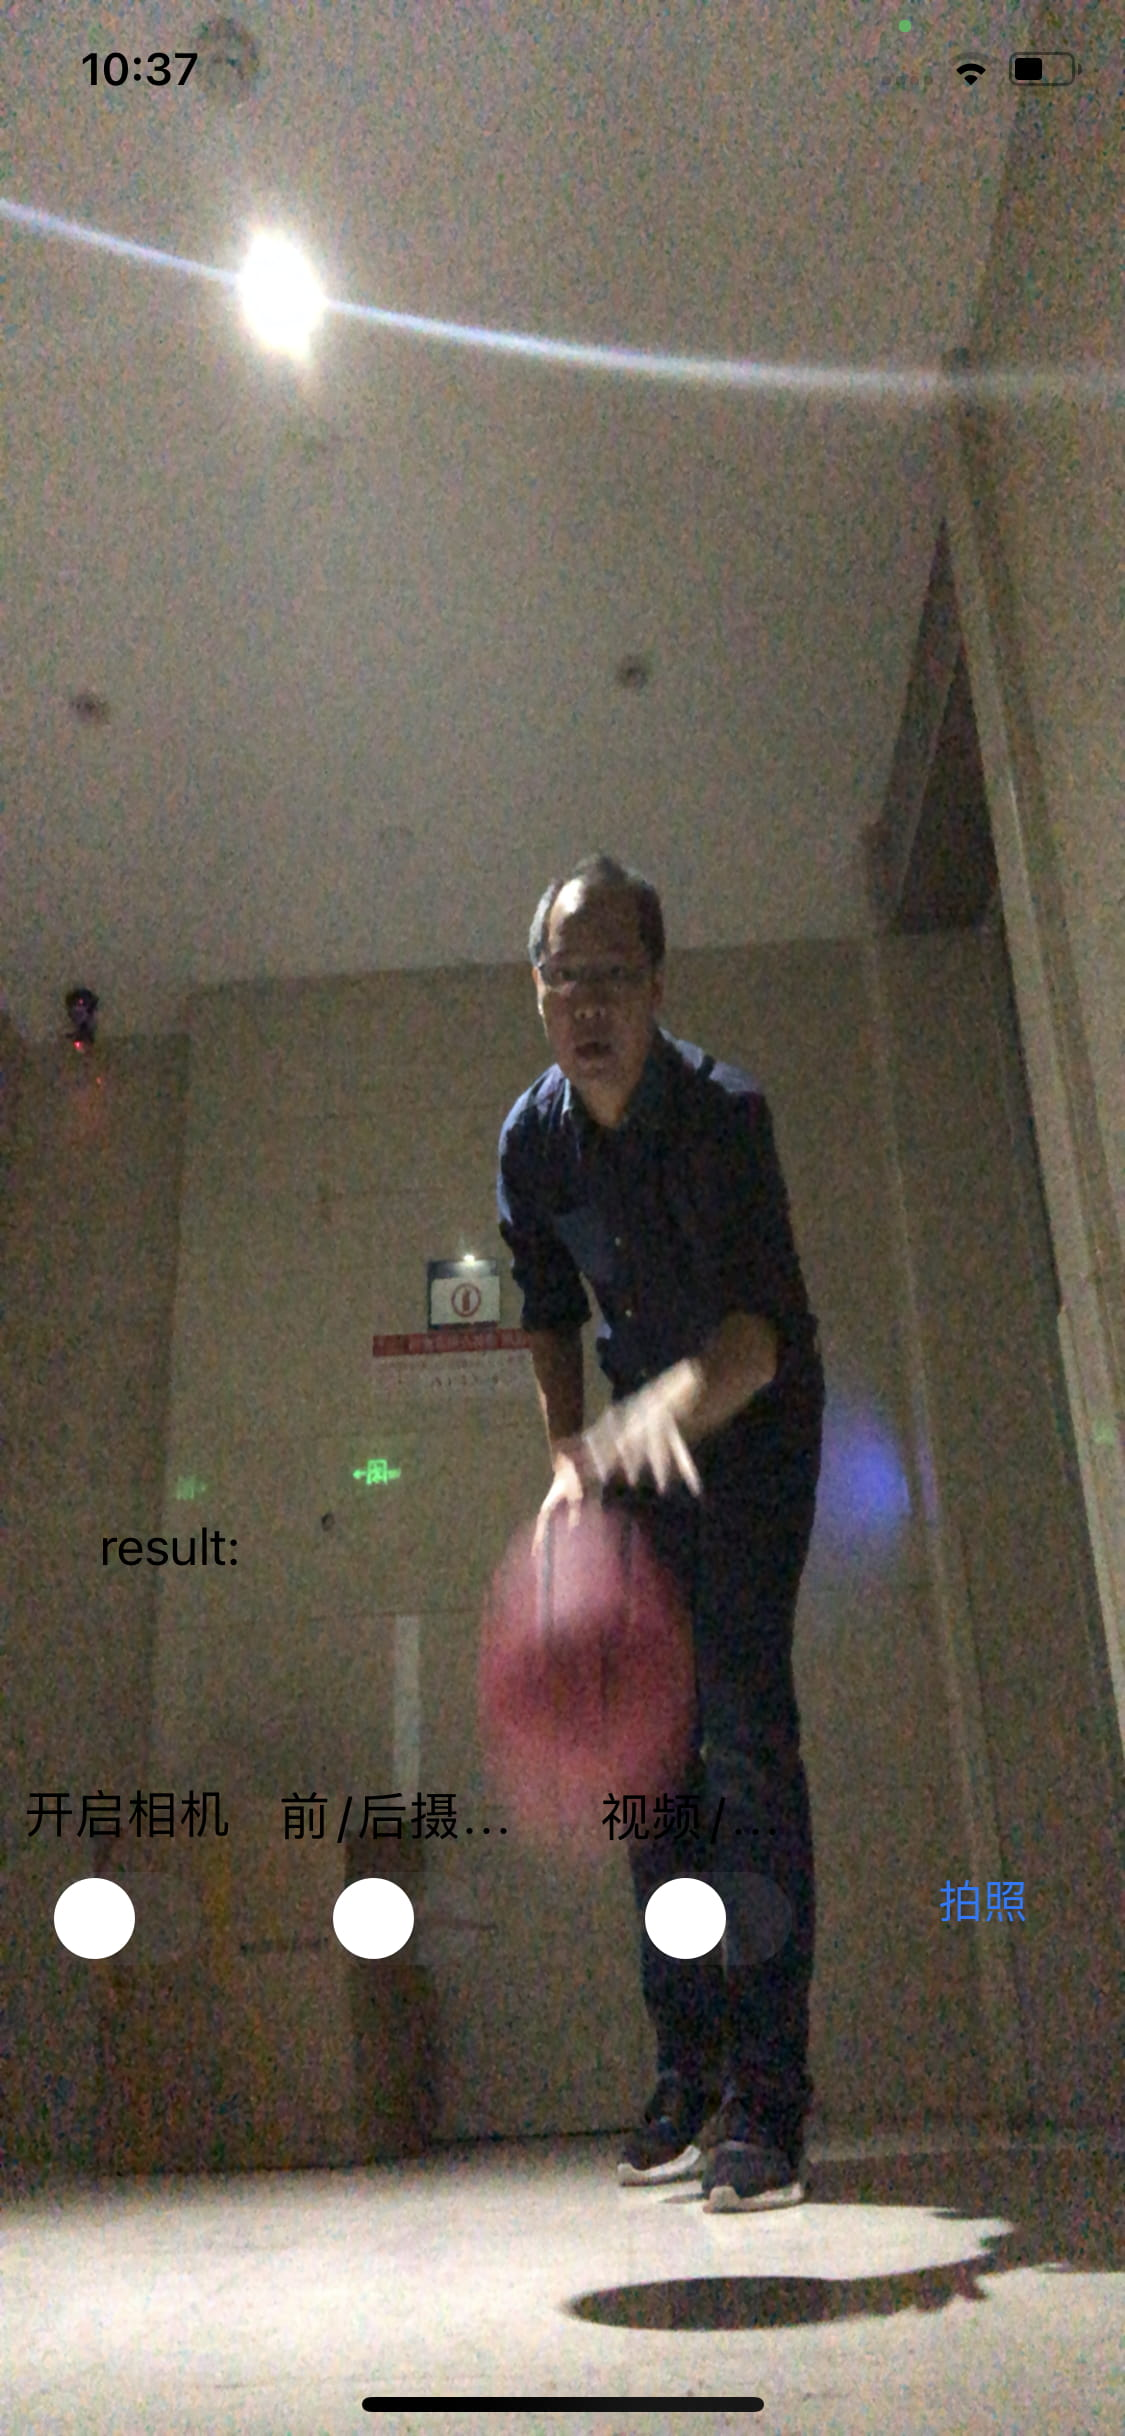ball: (472, 1571, 698, 1776)
